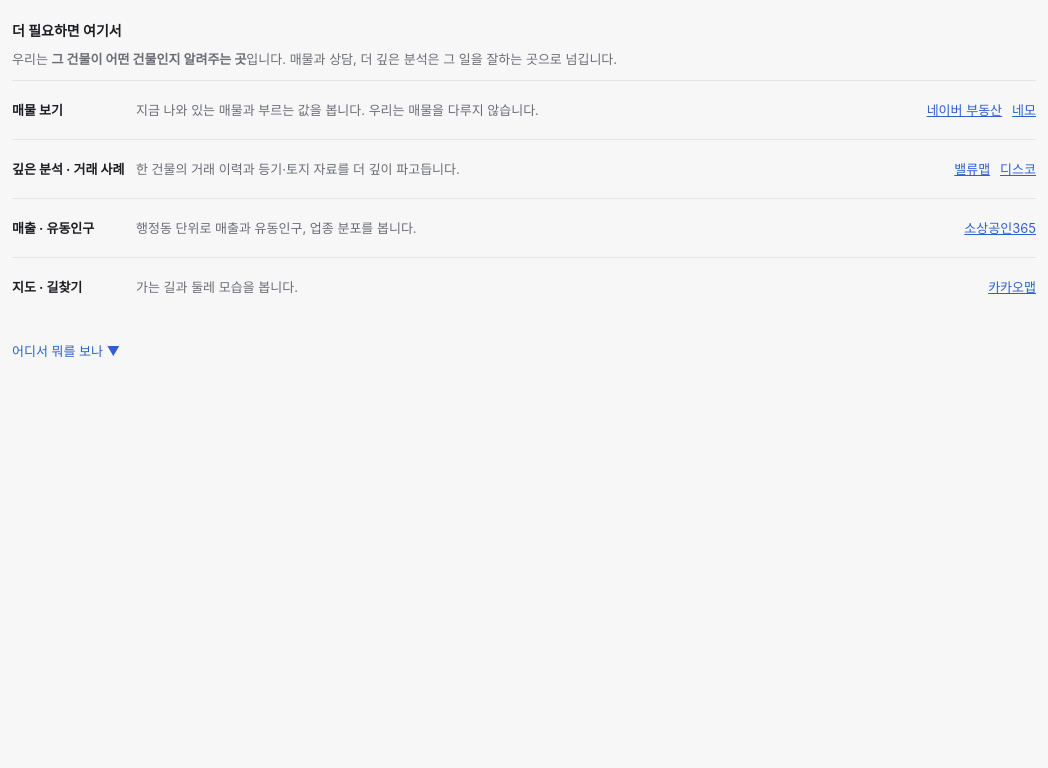
HandoffLinks — 접힌 "어디서 뭐를 보나" › 누르면 펼쳐지고 다시 누르면 접힌다
Click the button "어디서 뭐를 보나 ▼" at (66, 350), box [12, 328, 120, 372]
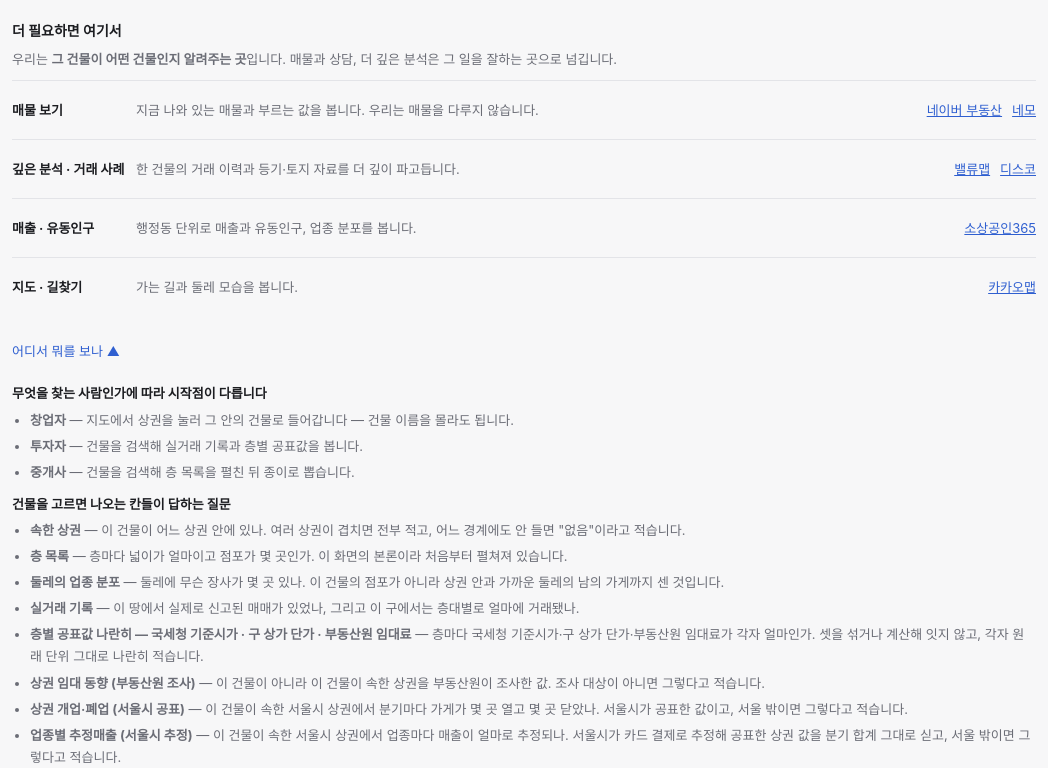
Now the button "어디서 뭐를 보나 ▲" is expanded
Click the button "어디서 뭐를 보나 ▲" at (66, 350), box [12, 328, 120, 372]
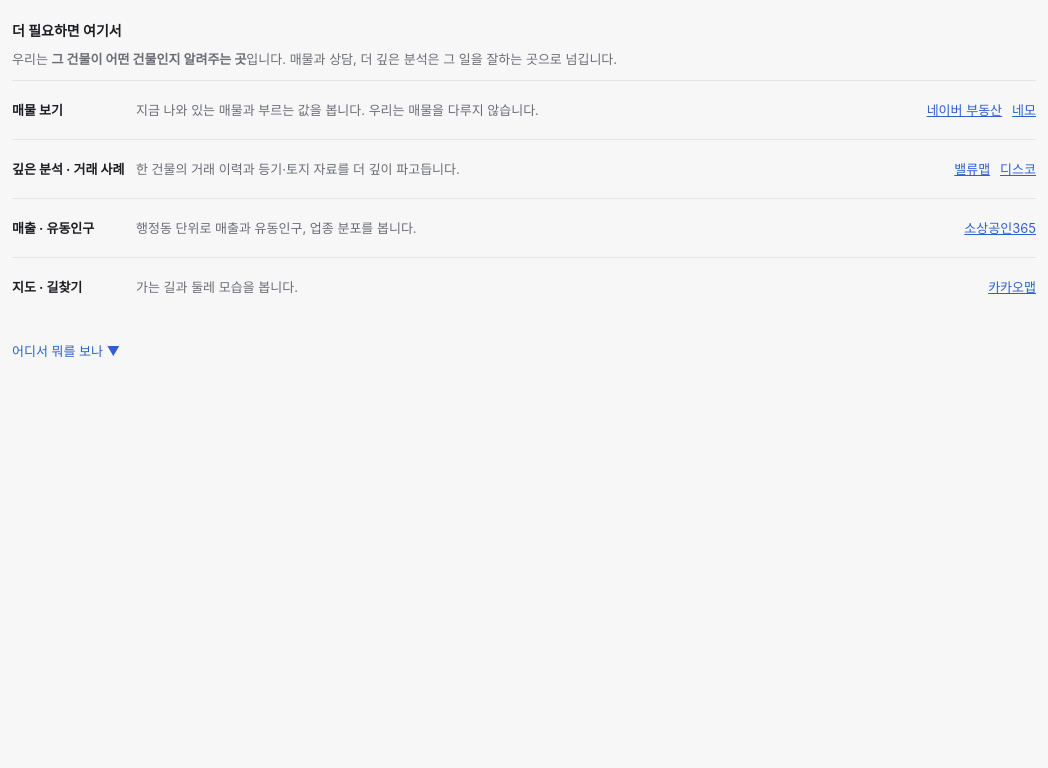
Now the button "어디서 뭐를 보나 ▼" is collapsed, box [12, 328, 120, 372]
